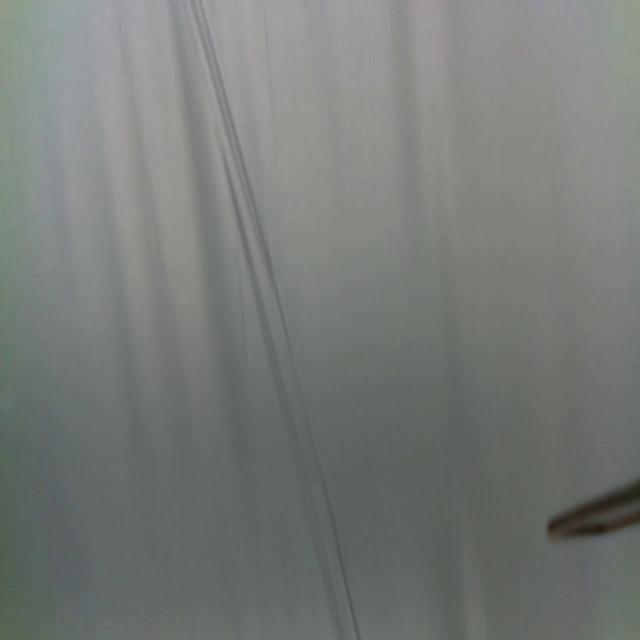crease: (192, 0, 363, 639), (260, 0, 281, 167)
